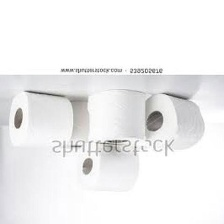tissue: (6, 89, 77, 148), (141, 90, 207, 153), (73, 137, 142, 197), (87, 86, 149, 148), (63, 97, 92, 150)
